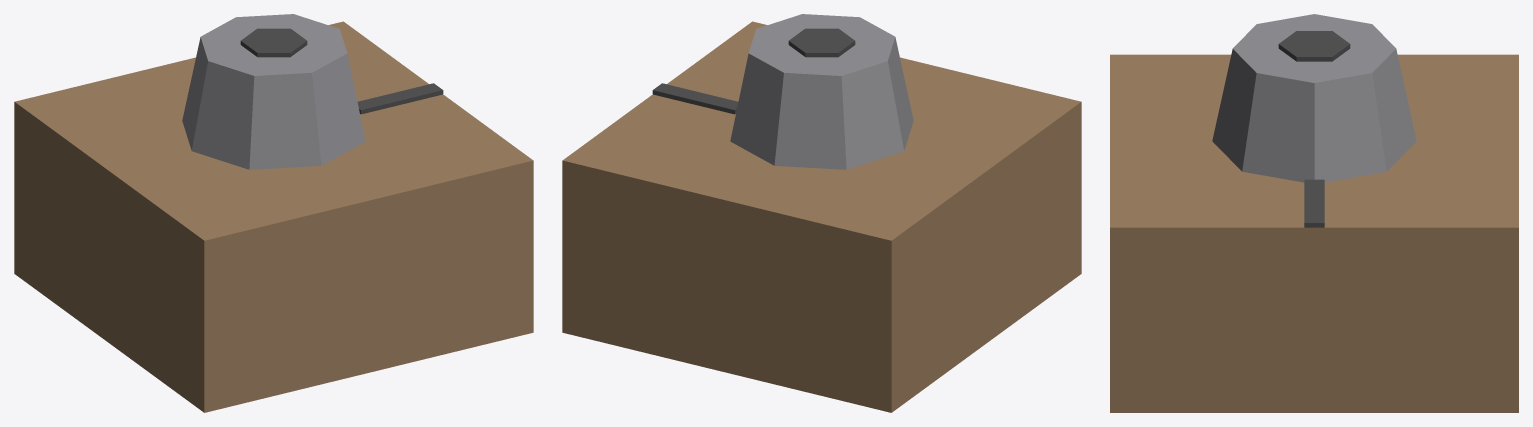
Rendered from prop-pin-heading-die.fbx.
3 views of the same model, side by side, from view 1: azimuth 30°, elevation 25°; view 2: azimuth 150°, elevation 25°; view 3: azimuth 270°, elevation 25° (orthographic). The views are drawn at different scales.
Parts seen in each view (by area): view 1: prop-pin-heading-die; view 2: prop-pin-heading-die; view 3: prop-pin-heading-die.
Part boxes in pixels (x1,y1,x2,y2): prop-pin-heading-die: [14, 14, 533, 412]; prop-pin-heading-die: [562, 14, 1081, 412]; prop-pin-heading-die: [1110, 14, 1518, 412].
Bounding box in the file's own units: 8 × 6.1 × 8.
